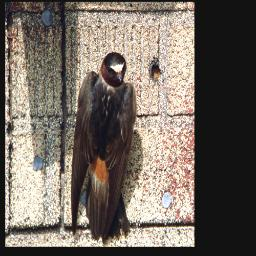Swallow: (69, 51, 136, 245)
